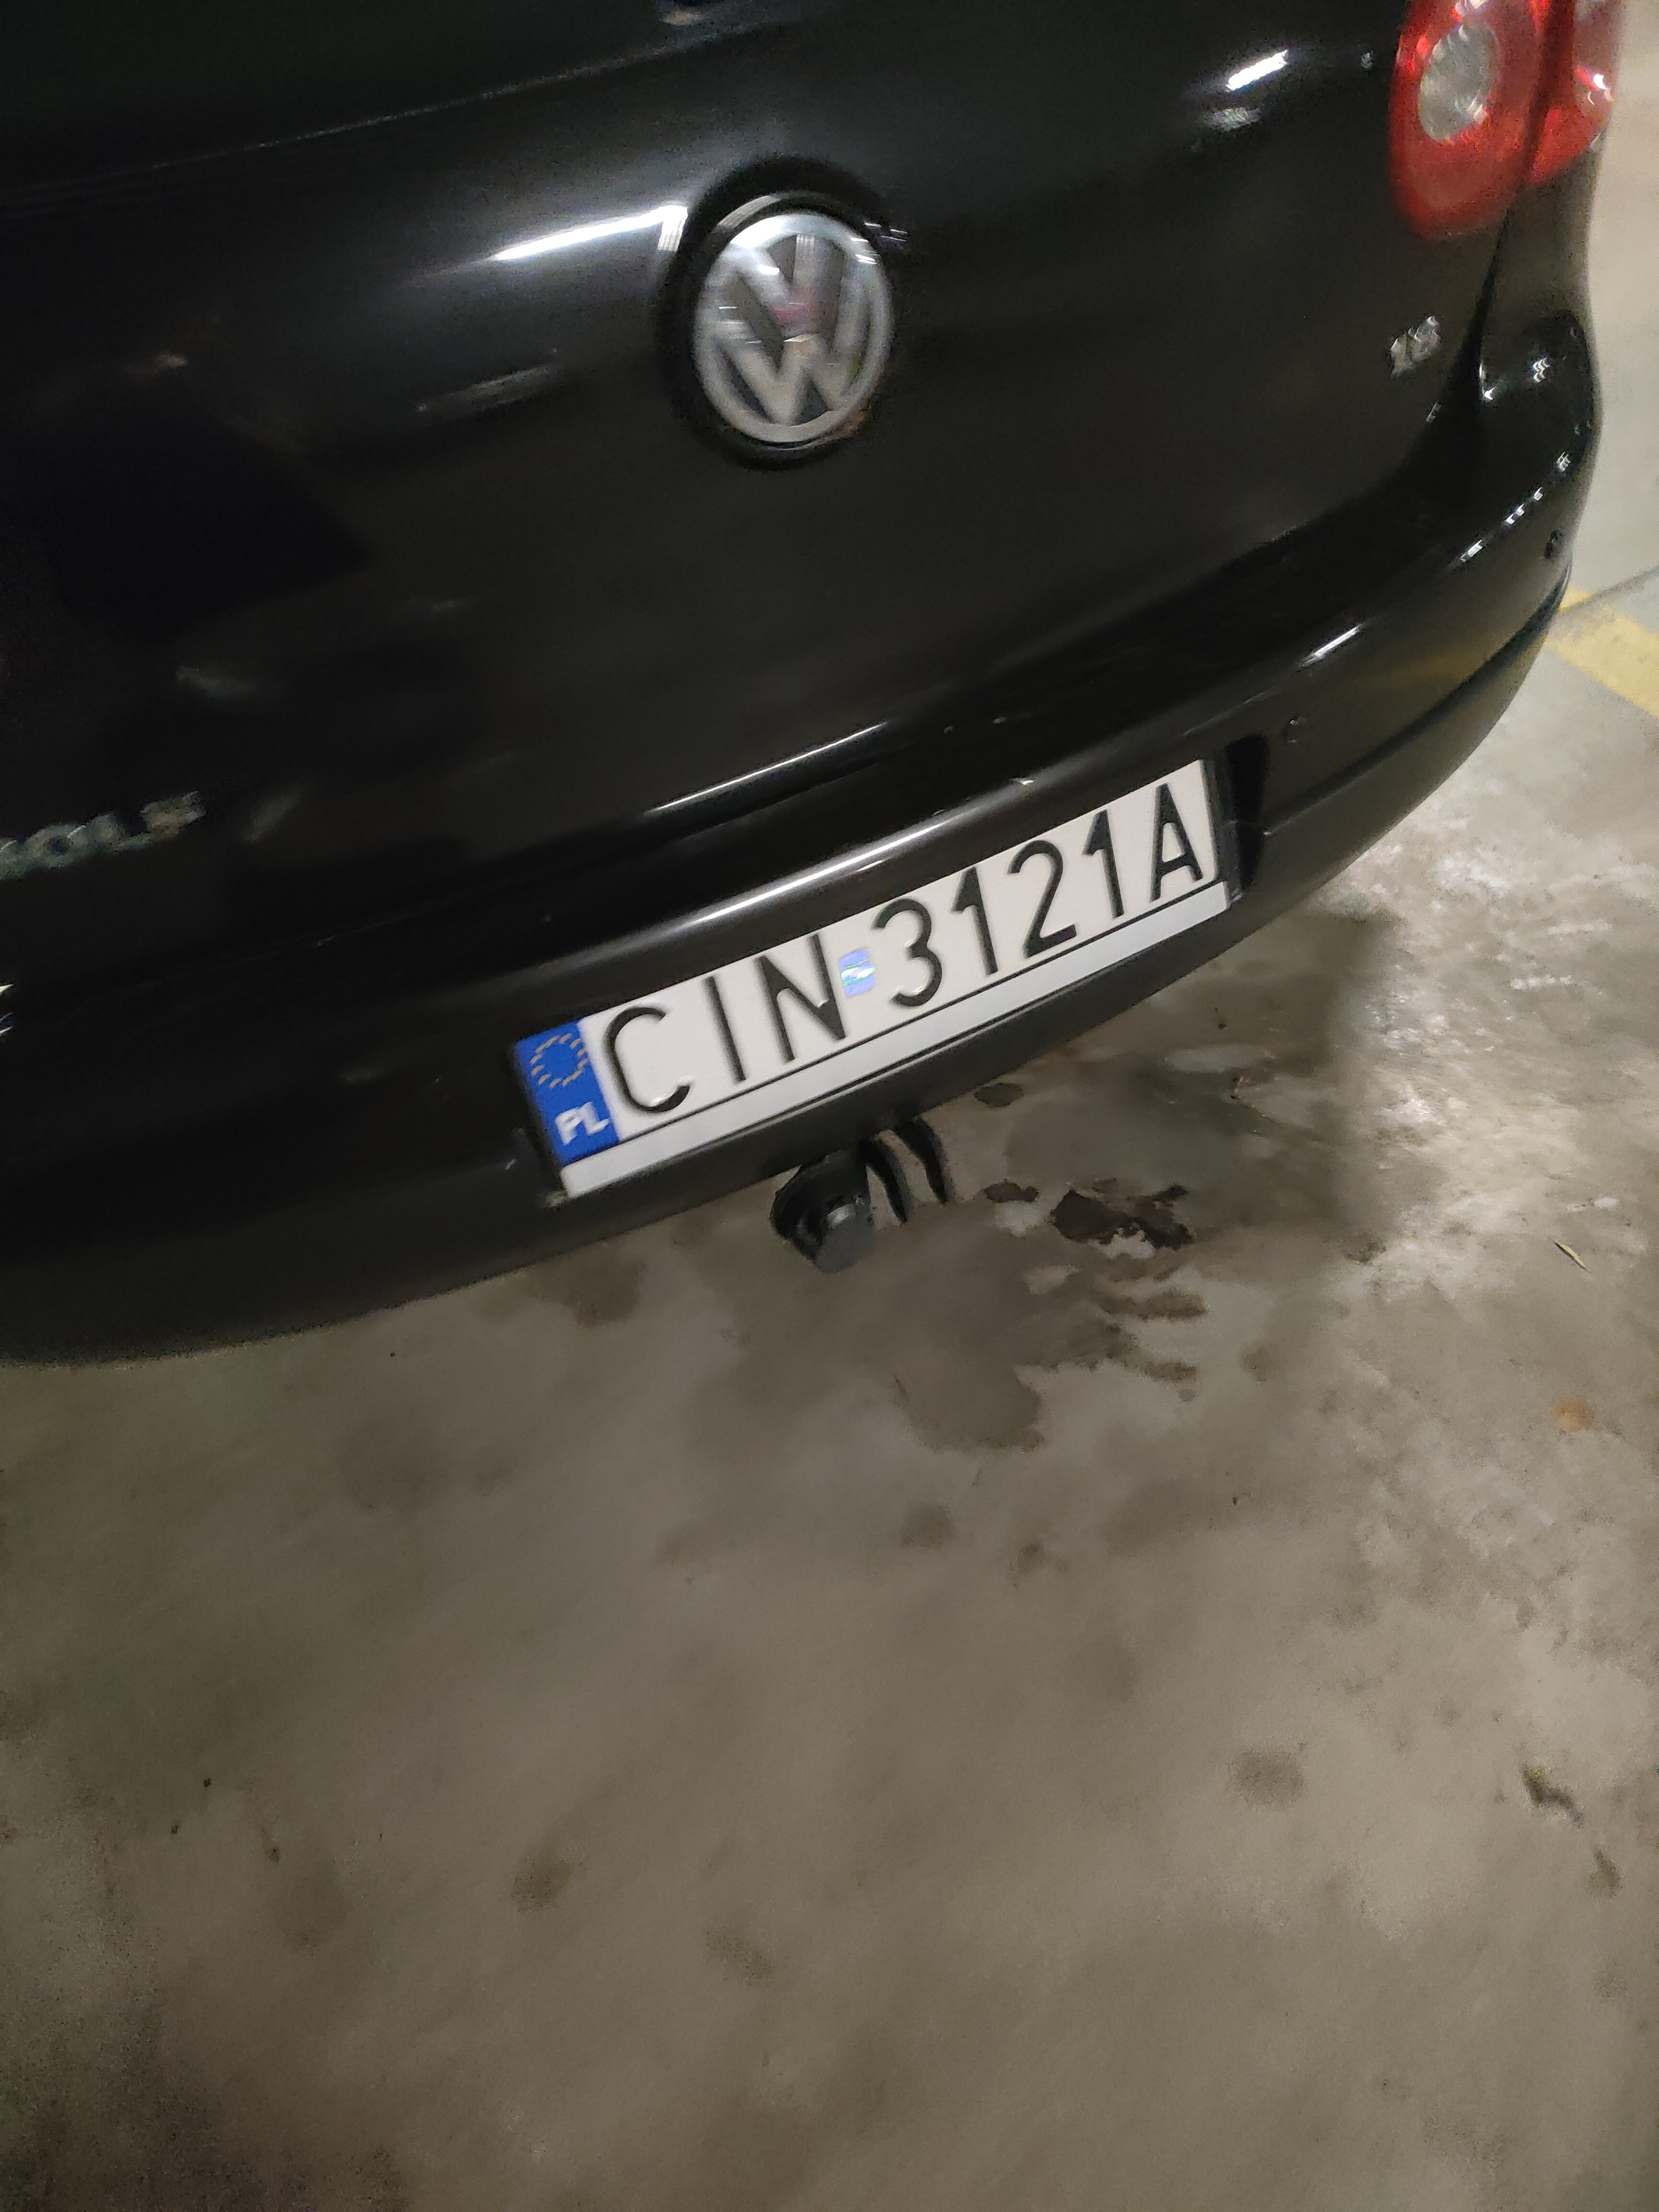number_plate: (513, 758, 1233, 1197)
